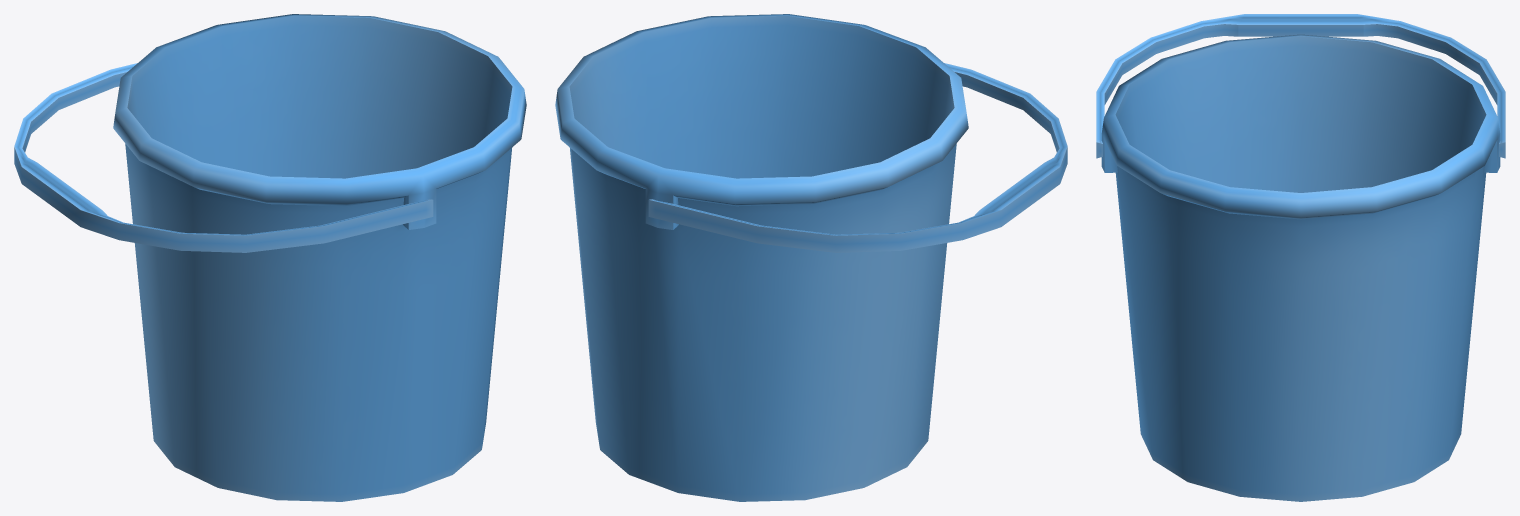
File: KR_Bucket_01_01.fbx
The picture shows the model from 3 angles, left to right: view 1: azimuth 30°, elevation 25°; view 2: azimuth 150°, elevation 25°; view 3: azimuth 270°, elevation 25°; orthographic projection. The views are drawn at different scales.
Visible parts, largest first — view 1: bucket_01, bucket_handle_01; view 2: bucket_01, bucket_handle_01; view 3: bucket_01, bucket_handle_01.
Part boxes in pixels (x1,y1,x2,y2): bucket_01: (113,14,526,501); bucket_handle_01: (14,63,433,252); bucket_01: (555,14,968,501); bucket_handle_01: (648,63,1067,252); bucket_01: (1101,34,1500,501); bucket_handle_01: (1096,14,1505,158).
Bounding box in the file's own units: 35.53 × 25.27 × 29.31.
